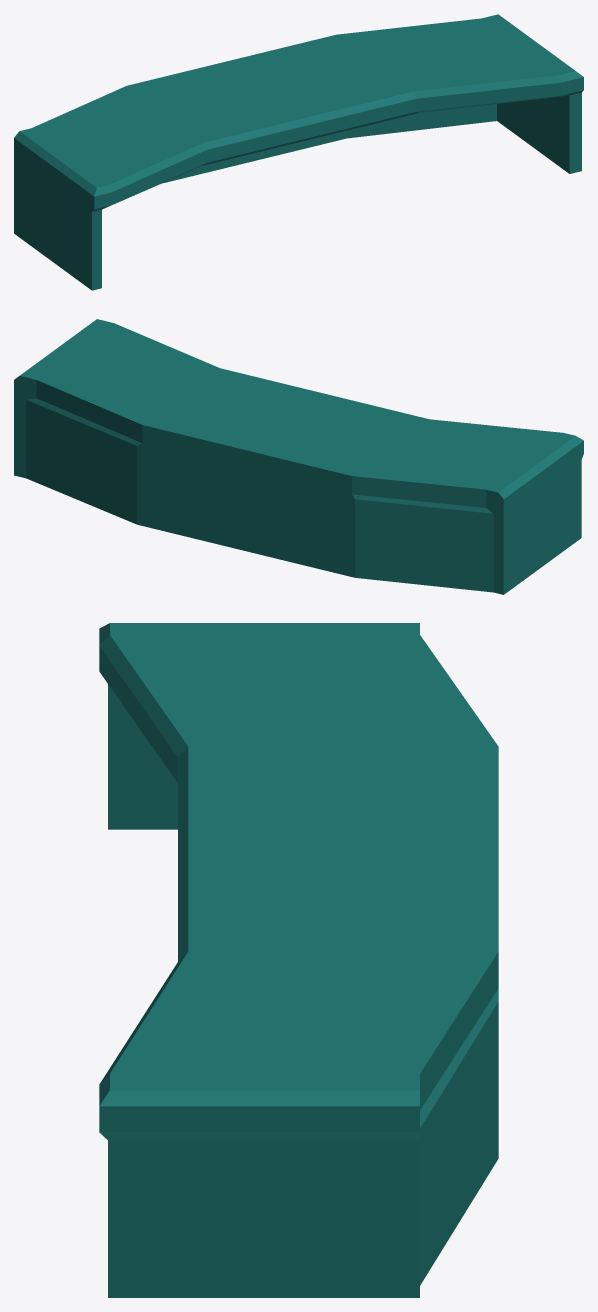
Rendered from Desk.fbx.
The picture shows the model from 3 angles, top to bottom: view 1: azimuth 30°, elevation 25°; view 2: azimuth 150°, elevation 25°; view 3: azimuth 270°, elevation 25°; orthographic projection. The views are drawn at different scales.
Visible parts, largest first — view 1: Desk; view 2: Desk; view 3: Desk.
Boxes of the visible parts, x1=… form: Desk: x1=14, y1=14, x2=583, y2=290; Desk: x1=14, y1=319, x2=583, y2=594; Desk: x1=99, y1=623, x2=498, y2=1297.
Bounding box in the file's own units: 1072 × 211 × 378.
